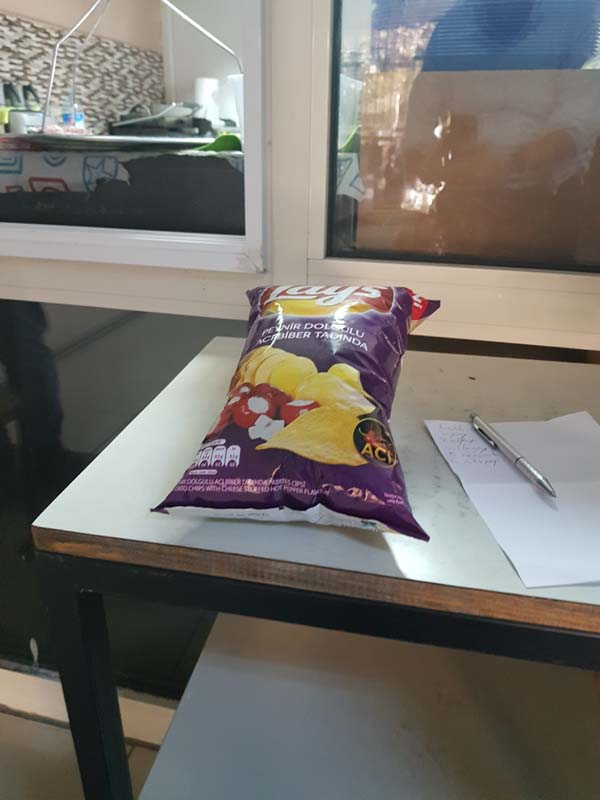layspeynirsoslu: (150, 283, 460, 557)
